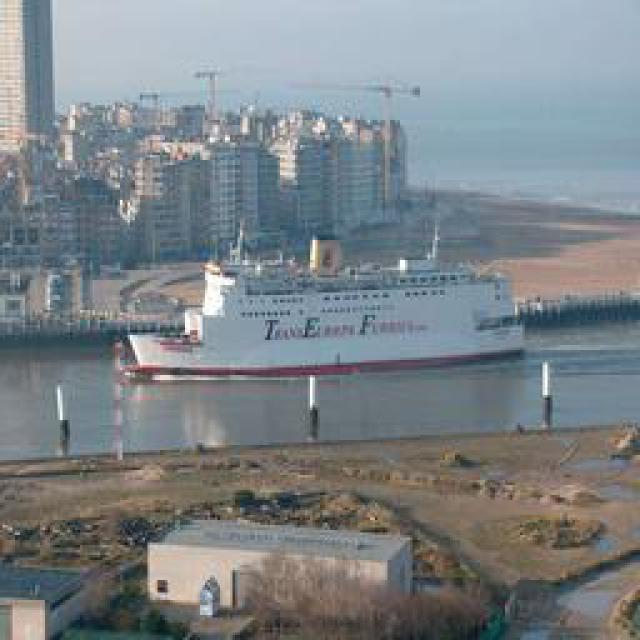Ship: (123, 228, 528, 386)
